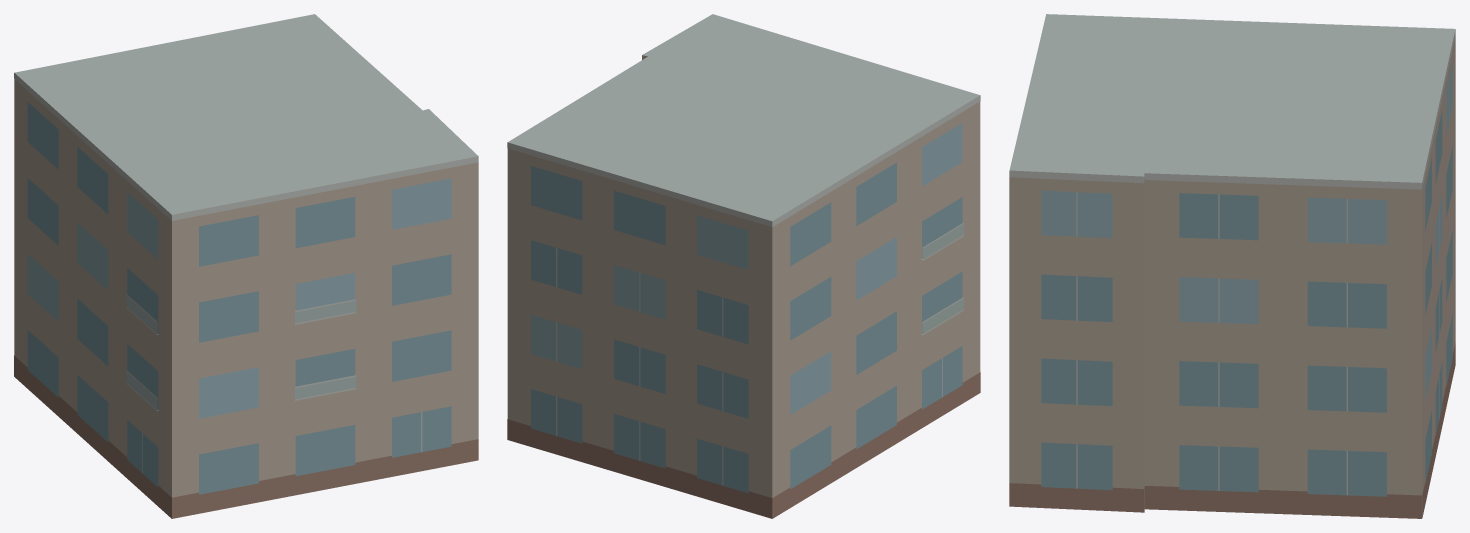
The model's file is survey-upis-33023683.glb.
3 renders of one model, left to right at view 1: azimuth 30°, elevation 25°; view 2: azimuth 150°, elevation 25°; view 3: azimuth 270°, elevation 25°, orthographic. The views are drawn at different scales.
Parts seen in each view (by area): view 1: survey-upis-33023683.tmp; view 2: survey-upis-33023683.tmp; view 3: survey-upis-33023683.tmp.
Part boxes in pixels (x1,y1,x2,y2): survey-upis-33023683.tmp: [14, 14, 478, 518]; survey-upis-33023683.tmp: [507, 14, 980, 518]; survey-upis-33023683.tmp: [1009, 14, 1455, 518].
Size of the model in its own units: 13.16 by 12.2 by 14.69.
